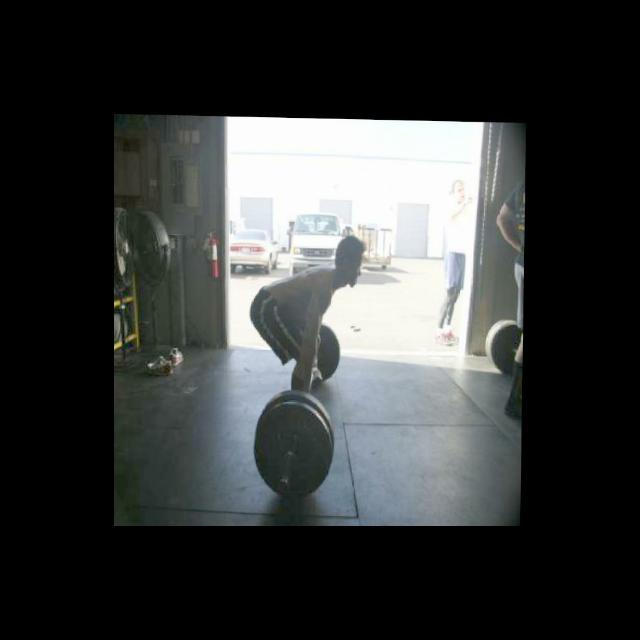barbell: (251, 394, 339, 500)
